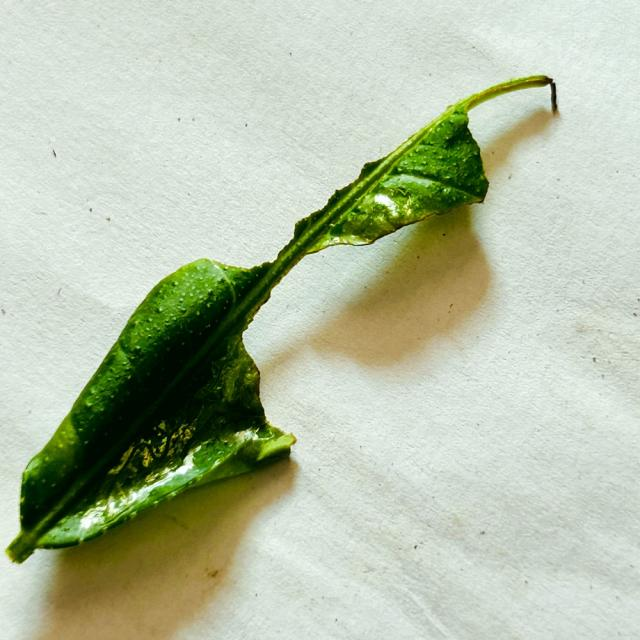Deficiency Leaf: (244, 203, 483, 437), (190, 97, 445, 263)
Lemon: (7, 76, 557, 562)
